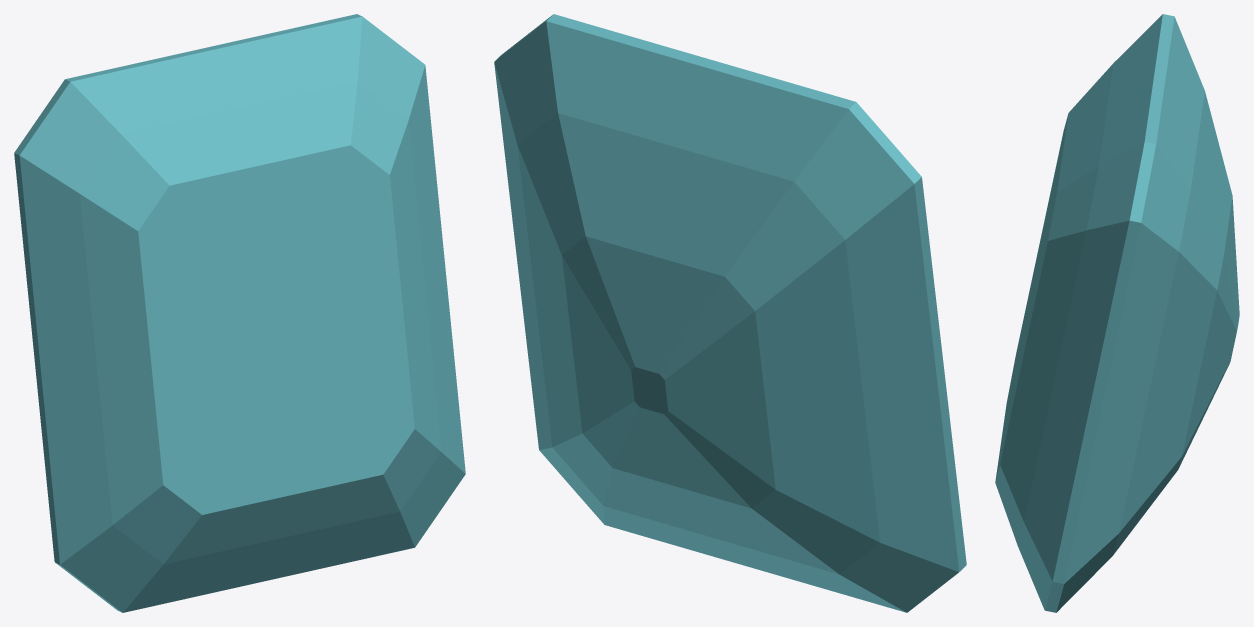
The model's file is aquamarine.glb.
3 views of the same model, side by side, from view 1: azimuth 30°, elevation 25°; view 2: azimuth 150°, elevation 25°; view 3: azimuth 270°, elevation 25° (orthographic). The views are drawn at different scales.
Visible parts, largest first — view 1: aquamarine; view 2: aquamarine; view 3: aquamarine.
Boxes of the visible parts, left/top/right/bottom form: aquamarine: left=14, top=14, right=465, bottom=612; aquamarine: left=494, top=14, right=966, bottom=612; aquamarine: left=995, top=14, right=1239, bottom=612.
Size of the model in its own units: 1.92 by 2.33 by 1.09.
